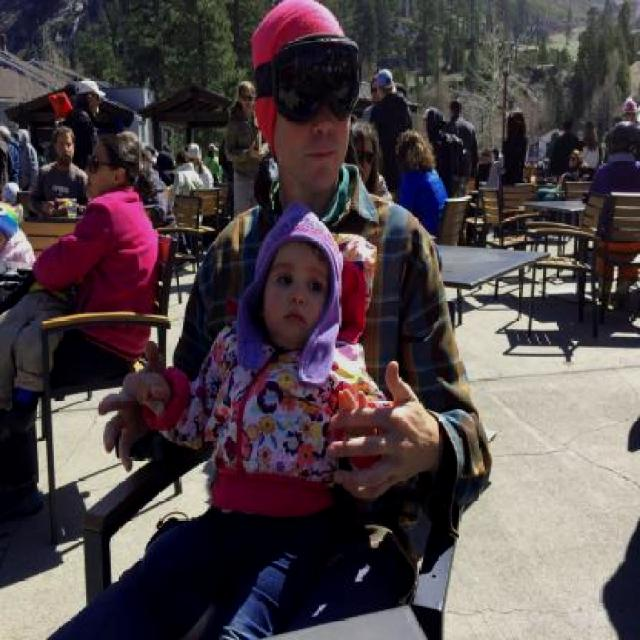face_nomask: (284, 60, 362, 169), (266, 269, 332, 331), (79, 148, 110, 189)
glasses: (271, 36, 369, 127)
hand_noglove: (324, 359, 448, 501), (96, 337, 169, 468)
head_nohelmet: (259, 208, 344, 261), (91, 130, 138, 155)
person: (116, 0, 478, 640), (0, 126, 168, 402)
